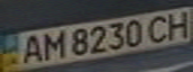0: (124, 17, 148, 47)
2: (87, 24, 112, 54)
3: (106, 20, 130, 52)
8: (66, 25, 90, 57)
A: (15, 33, 48, 64)
C: (142, 12, 175, 44)
H: (160, 8, 193, 39)
M: (36, 29, 66, 61)
